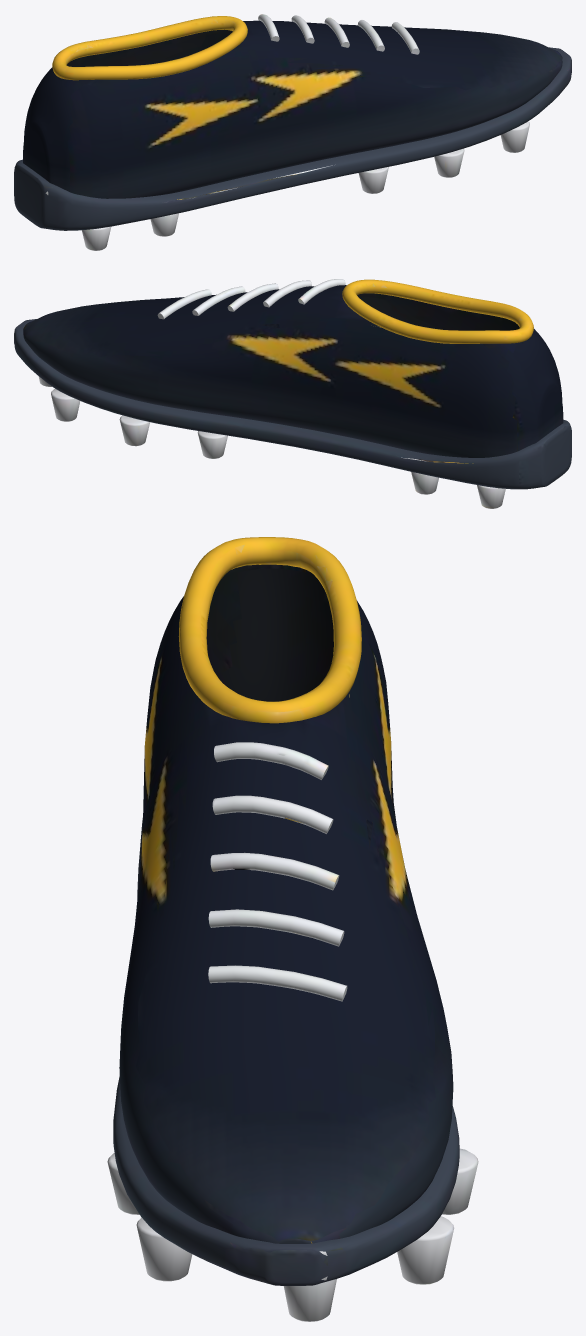
Rendered from boot-elite.glb.
The picture shows the model from 3 angles, top to bottom: view 1: azimuth 30°, elevation 25°; view 2: azimuth 150°, elevation 25°; view 3: azimuth 270°, elevation 25°; orthographic projection. The views are drawn at different scales.
Visible parts, largest first — view 1: boot-elite; view 2: boot-elite; view 3: boot-elite.
Boxes of the visible parts, x1,y1,x2,y2 form: boot-elite: (14, 14, 571, 250); boot-elite: (14, 279, 571, 508); boot-elite: (107, 537, 478, 1321).
Size of the model in its own units: 0.298 by 0.0912 by 0.0901.
6 materials, 6 textured.
